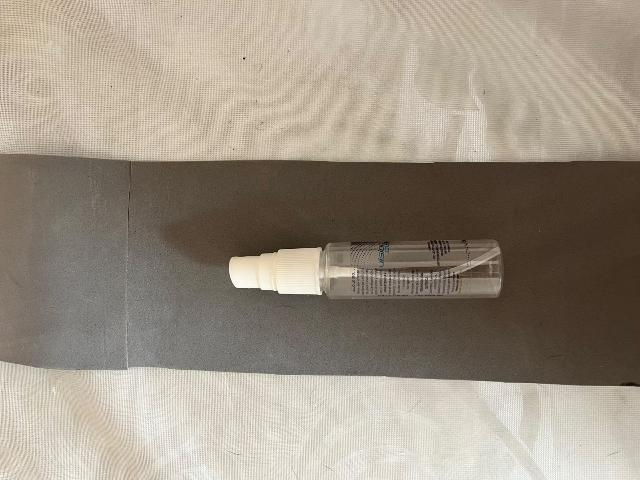PET: (226, 222, 527, 351)
